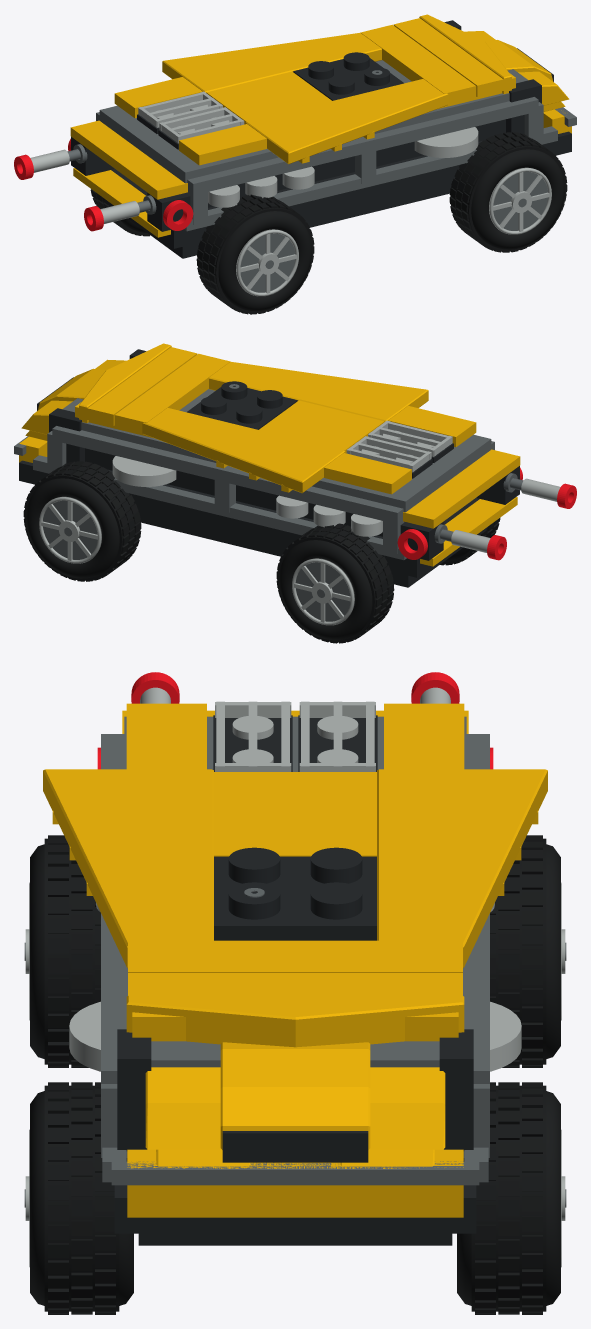
File: carrier.glb
The picture shows the model from 3 angles, top to bottom: view 1: azimuth 30°, elevation 25°; view 2: azimuth 150°, elevation 25°; view 3: azimuth 270°, elevation 25°; orthographic projection. The views are drawn at different scales.
Visible parts, largest first — view 1: Fixed trapezoid roof panel (×2), Rounded tire sidewall (×2), Brick (×6), Front roof cross tile (×2), Upper side rail, Baked tread blocks (×2), Deck supporting plate, Lower chassis, Rear yellow deck rail (×2), Rear upper bumper, Central roof tile, Lower side rail (+17 smaller); view 2: Fixed trapezoid roof panel (×2), Rounded tire sidewall (×2), Brick (×6), Front roof cross tile (×2), Upper side rail, Baked tread blocks (×2), Deck supporting plate, Lower chassis, Rear yellow deck rail (×2), Rear upper bumper, Central roof tile, Lower side rail (+17 smaller); view 3: Fixed trapezoid roof panel (×2), Baked tread blocks (×4), Front roof cross tile (×2), Rubber tire (×4), Rounded tire sidewall (×6), Brick (×6), Pointed front roof lip, Raised centre nose, Central roof tile, Front yellow fascia, Split front hood (×2), Rear yellow deck rail (×2) (+13 smaller).
Part boxes in pixels (left/top/right/bottom): Fixed trapezoid roof panel (×2): left=162, top=32, right=448, bottom=164; Rounded tire sidewall (×2): left=218, top=149, right=564, bottom=311; Brick (×6): left=208, top=79, right=541, bottom=207; Front roof cross tile (×2): left=360, top=18, right=503, bottom=103; Upper side rail: left=187, top=97, right=538, bottom=195; Baked tread blocks (×2): left=196, top=132, right=567, bottom=314; Deck supporting plate: left=99, top=60, right=527, bottom=183; Lower chassis: left=111, top=131, right=571, bottom=248; Rear yellow deck rail (×2): left=114, top=77, right=266, bottom=165; Rear upper bumper: left=70, top=120, right=187, bottom=199; Central roof tile: left=206, top=71, right=331, bottom=124; Lower side rail: left=184, top=126, right=557, bottom=231; Fixed trapezoid roof panel (×2): left=142, top=361, right=428, bottom=493; Rounded tire sidewall (×2): left=26, top=478, right=372, bottom=640; Brick (×6): left=49, top=408, right=382, bottom=536; Front roof cross tile (×2): left=87, top=347, right=230, bottom=432; Upper side rail: left=52, top=426, right=403, bottom=524; Baked tread blocks (×2): left=23, top=461, right=394, bottom=643; Deck supporting plate: left=63, top=389, right=491, bottom=512; Lower chassis: left=19, top=460, right=479, bottom=577; Rear yellow deck rail (×2): left=324, top=406, right=476, bottom=494; Rear upper bumper: left=403, top=449, right=520, bottom=528; Central roof tile: left=259, top=400, right=384, bottom=453; Lower side rail: left=33, top=455, right=406, bottom=560; Fixed trapezoid roof panel (×2): left=43, top=769, right=547, bottom=967; Baked tread blocks (×4): left=48, top=835, right=542, bottom=1314; Front roof cross tile (×2): left=128, top=940, right=462, bottom=995; Rubber tire (×4): left=44, top=838, right=546, bottom=1311; Rounded tire sidewall (×6): left=30, top=844, right=560, bottom=1305; Brick (×6): left=69, top=1001, right=521, bottom=1150; Pointed front roof lip: left=126, top=995, right=464, bottom=1047; Raised centre nose: left=220, top=1042, right=370, bottom=1149; Central roof tile: left=214, top=772, right=376, bottom=856; Front yellow fascia: left=127, top=1149, right=463, bottom=1217; Split front hood (×2): left=145, top=1067, right=445, bottom=1149; Rear yellow deck rail (×2): left=126, top=703, right=464, bottom=769.
Bounding box in the file's own units: 7.85 × 2.54 × 3.83.
